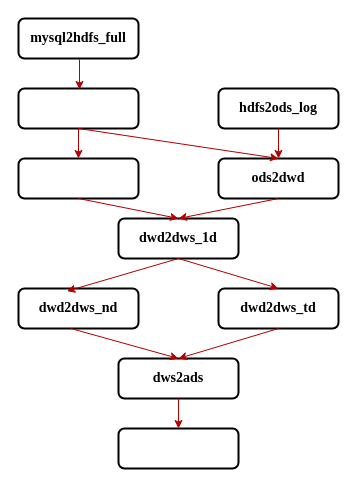
This 356x486 diagram has some shape labels left out. Here are the shapes that lost their labels. From the top down, the centre of each, then its label:
[78,108]: hdfs2ods_db
[78,178]: ods2dim
[178,448]: ads2mysql
